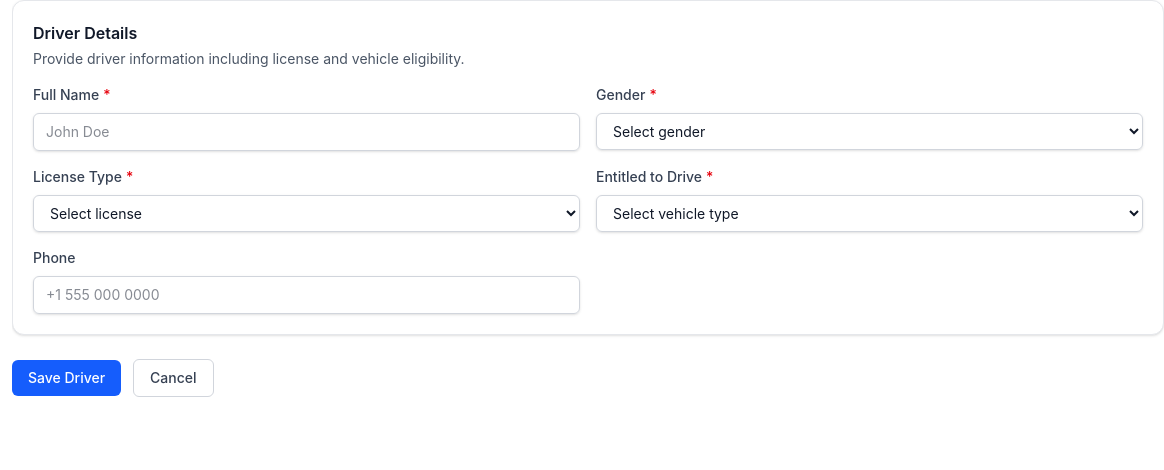
Test case: DriverForm › shows validation errors and blocks submit when required fields are missing
The image size is (1164, 470).
Click the button "Save Driver" at (67, 378), box [12, 360, 121, 396]
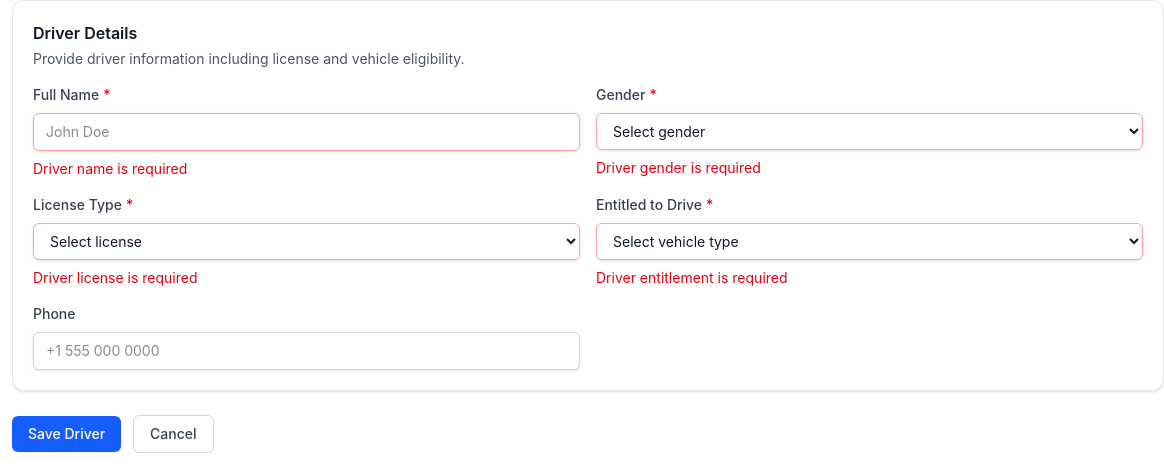
Expected: the text "Driver name is required" is shown, [33, 160, 187, 177]
Expected: the text "Driver gender is required" is shown, [596, 159, 761, 176]
Expected: the text "Driver license is required" is shown, [33, 269, 198, 286]
